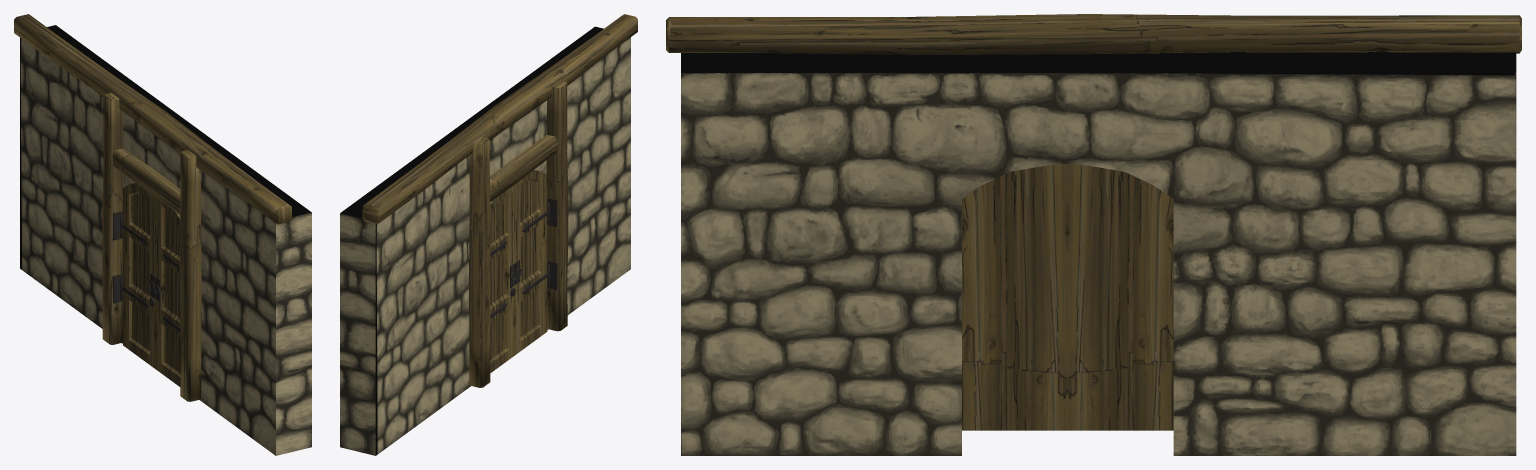
File: wallDoorNew.fbx
The picture shows the model from 3 angles, left to right: view 1: azimuth 30°, elevation 25°; view 2: azimuth 150°, elevation 25°; view 3: azimuth 270°, elevation 25°; orthographic projection. The views are drawn at different scales.
Visible parts, largest first — view 1: beamLong3, pCube28, pCube22; view 2: beamLong3, pCube22, pCube28; view 3: beamLong3, pCube28, pCube22.
Boxes of the visible parts, x1,y1,x2,y2 form: beamLong3: [14, 14, 311, 455]; pCube28: [120, 183, 155, 368]; pCube22: [154, 197, 181, 386]; beamLong3: [340, 14, 637, 455]; pCube22: [514, 170, 549, 355]; pCube28: [490, 185, 516, 372]; beamLong3: [666, 14, 1521, 455]; pCube28: [1067, 163, 1173, 430]; pCube22: [962, 163, 1067, 430].
Size of the model in its own units: 0.8792 by 4.34 by 8.17.
